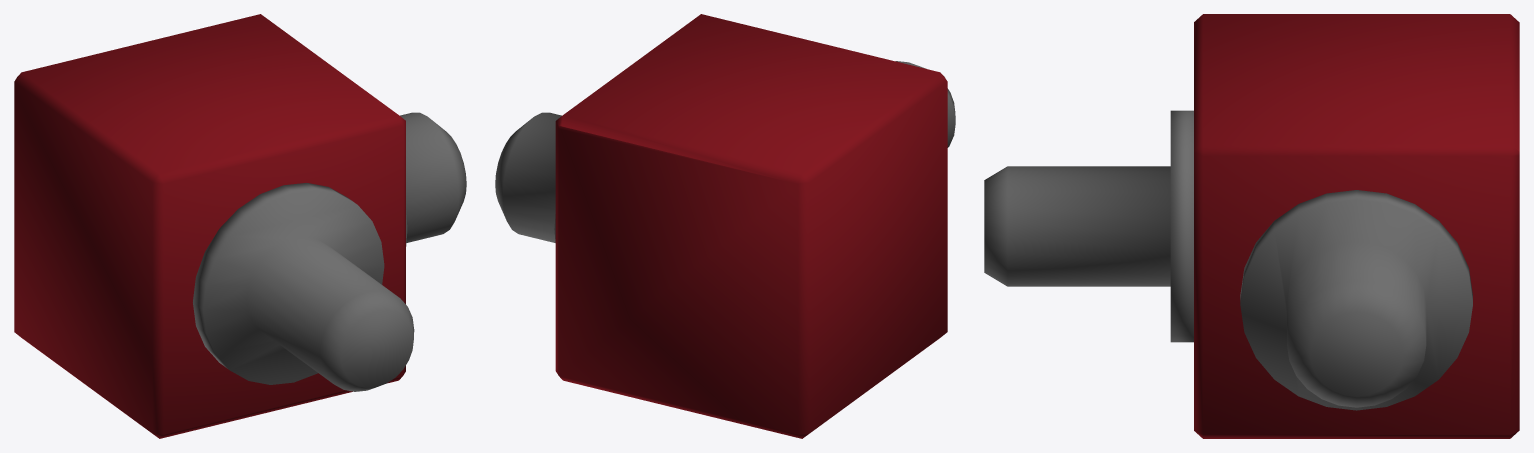
The model's file is regulator_red.dae.
3 renders of one model, left to right at view 1: azimuth 30°, elevation 25°; view 2: azimuth 150°, elevation 25°; view 3: azimuth 270°, elevation 25°, orthographic. The views are drawn at different scales.
Visible parts, largest first — view 1: regulator_short_peg; view 2: regulator_short_peg; view 3: regulator_short_peg.
Part boxes in pixels (x1=…): regulator_short_peg: x1=14, y1=14, x2=466, y2=438; regulator_short_peg: x1=495, y1=14, x2=955, y2=438; regulator_short_peg: x1=984, y1=14, x2=1519, y2=438.
Size of the model in its own units: 0.1 by 0.115 by 0.07.
